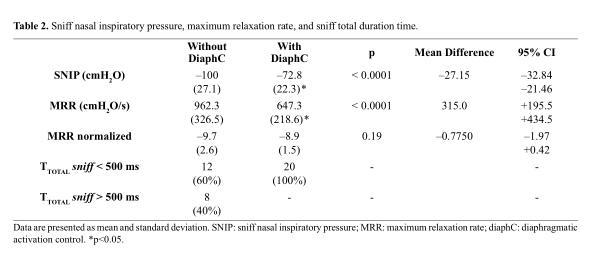table: (38, 38, 554, 215)
table column: (38, 38, 162, 215), (402, 38, 505, 215), (162, 38, 247, 215), (247, 38, 329, 215), (329, 38, 402, 215), (505, 38, 554, 215)
table column header: (38, 38, 554, 65)
table row: (38, 95, 554, 126), (38, 156, 554, 187), (38, 65, 554, 95), (38, 126, 554, 156), (38, 187, 554, 215), (38, 38, 554, 65)
